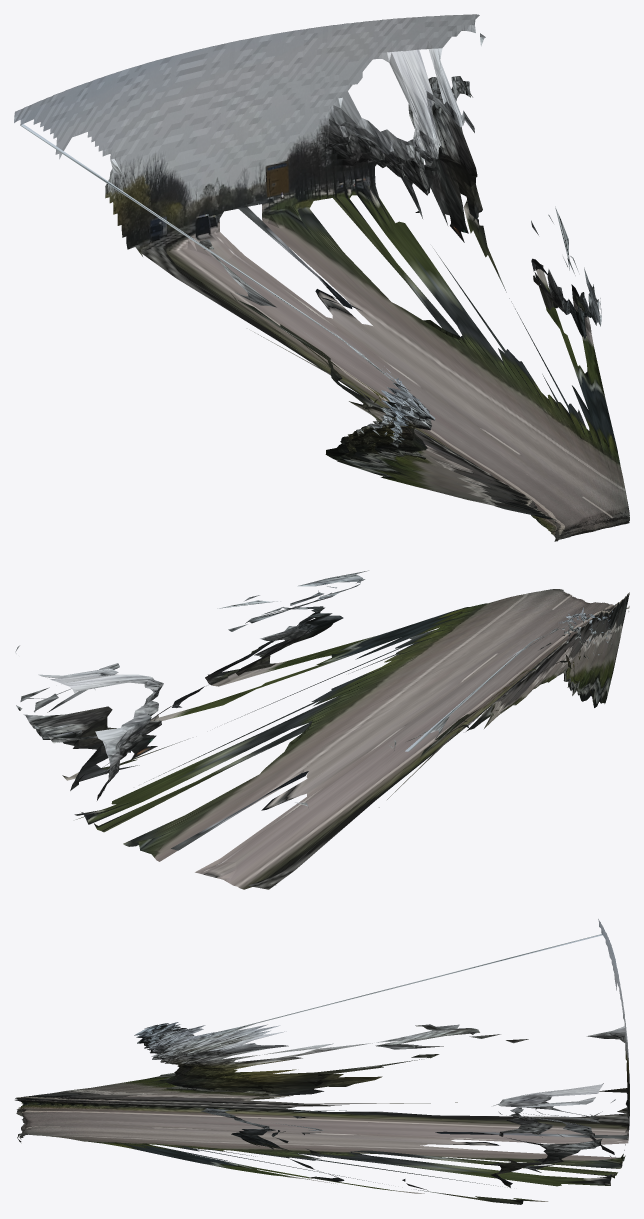
3 renders of one model, top to bottom at view 1: azimuth 30°, elevation 25°; view 2: azimuth 150°, elevation 25°; view 3: azimuth 270°, elevation 25°, orthographic. The views are drawn at different scales.
Parts seen in each view (by area): view 1: defaultobject; view 2: defaultobject; view 3: defaultobject.
Boxes of the visible parts, x1,y1,x2,y2 form: defaultobject: [14, 14, 629, 541]; defaultobject: [15, 570, 629, 889]; defaultobject: [15, 919, 629, 1204].
Size of the model in its own units: 28.8 by 12.09 by 44.73.
1 material, 1 textured.
